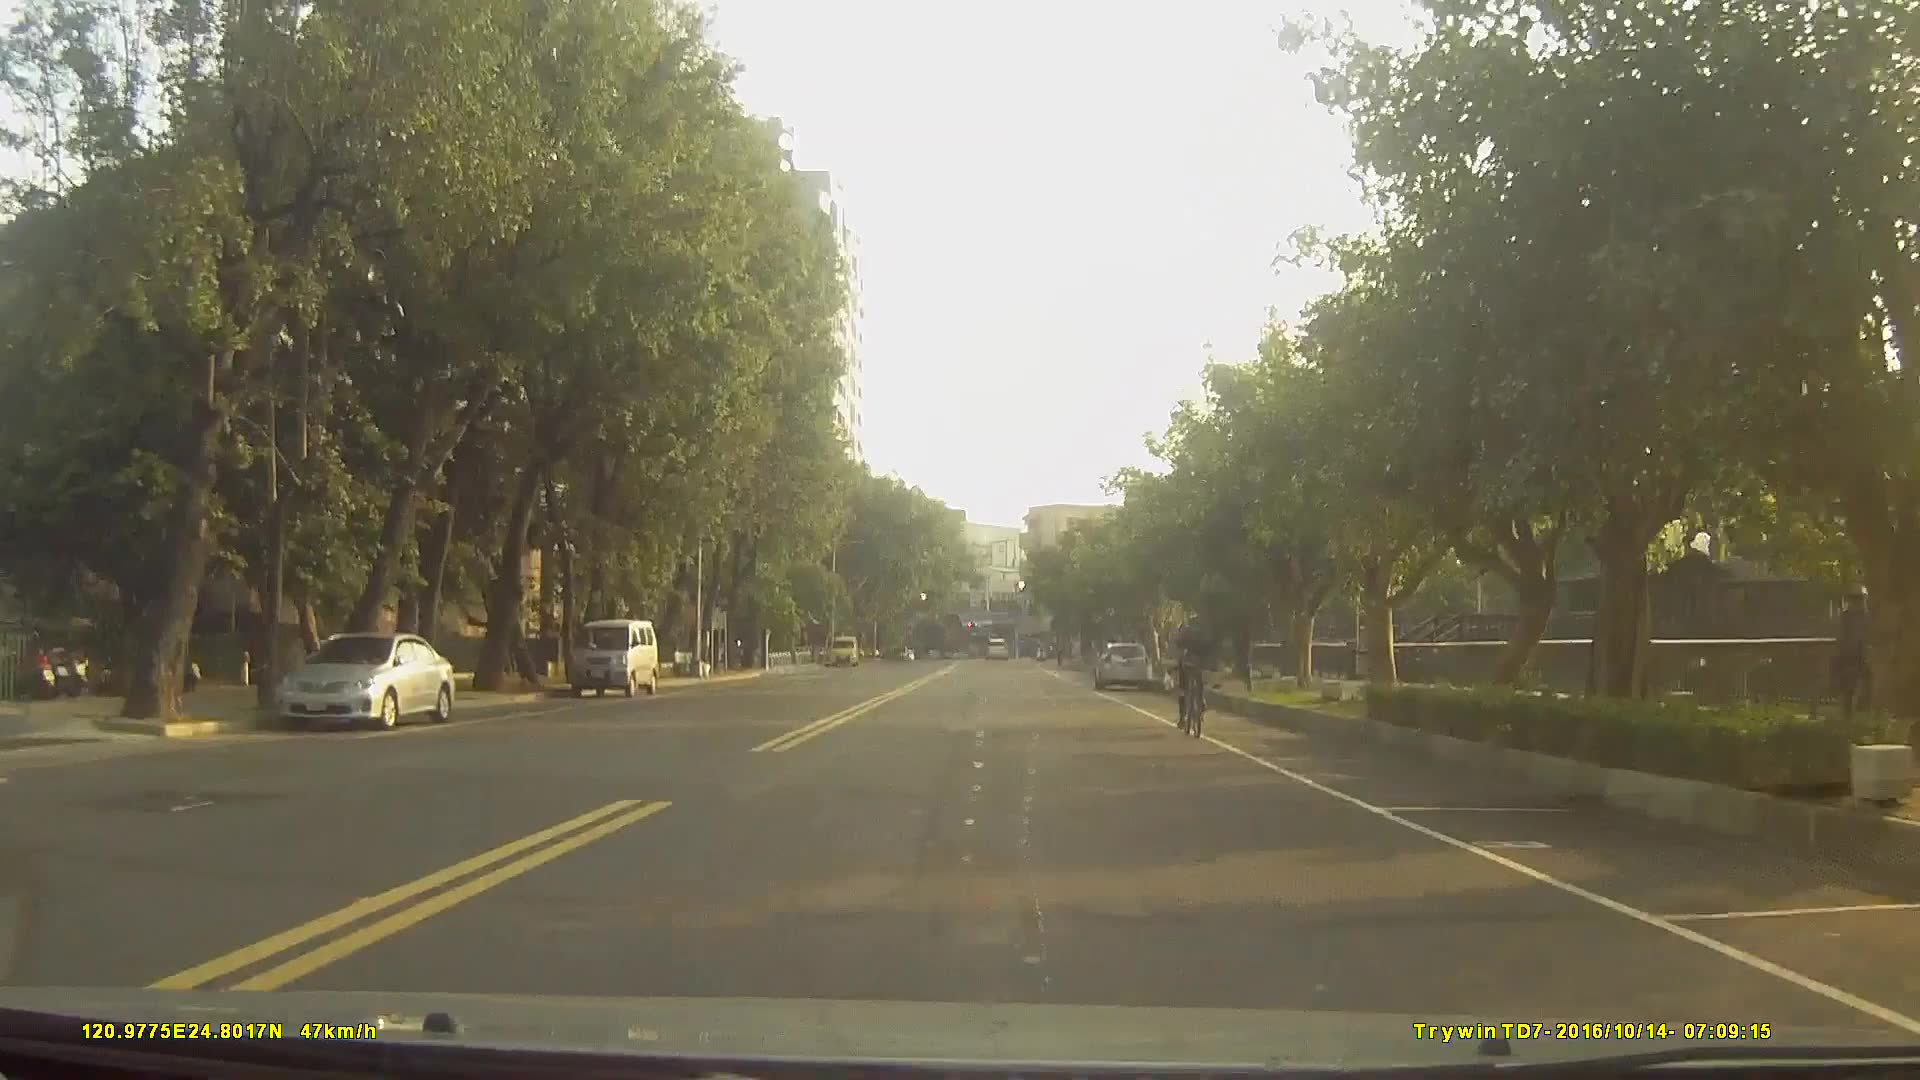rider: (1175, 609, 1214, 732)
vehicle: (274, 627, 458, 731), (567, 615, 659, 695), (1093, 640, 1156, 693), (982, 631, 1009, 659)
